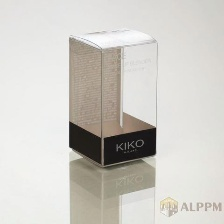plastic_box: (58, 20, 166, 174)
